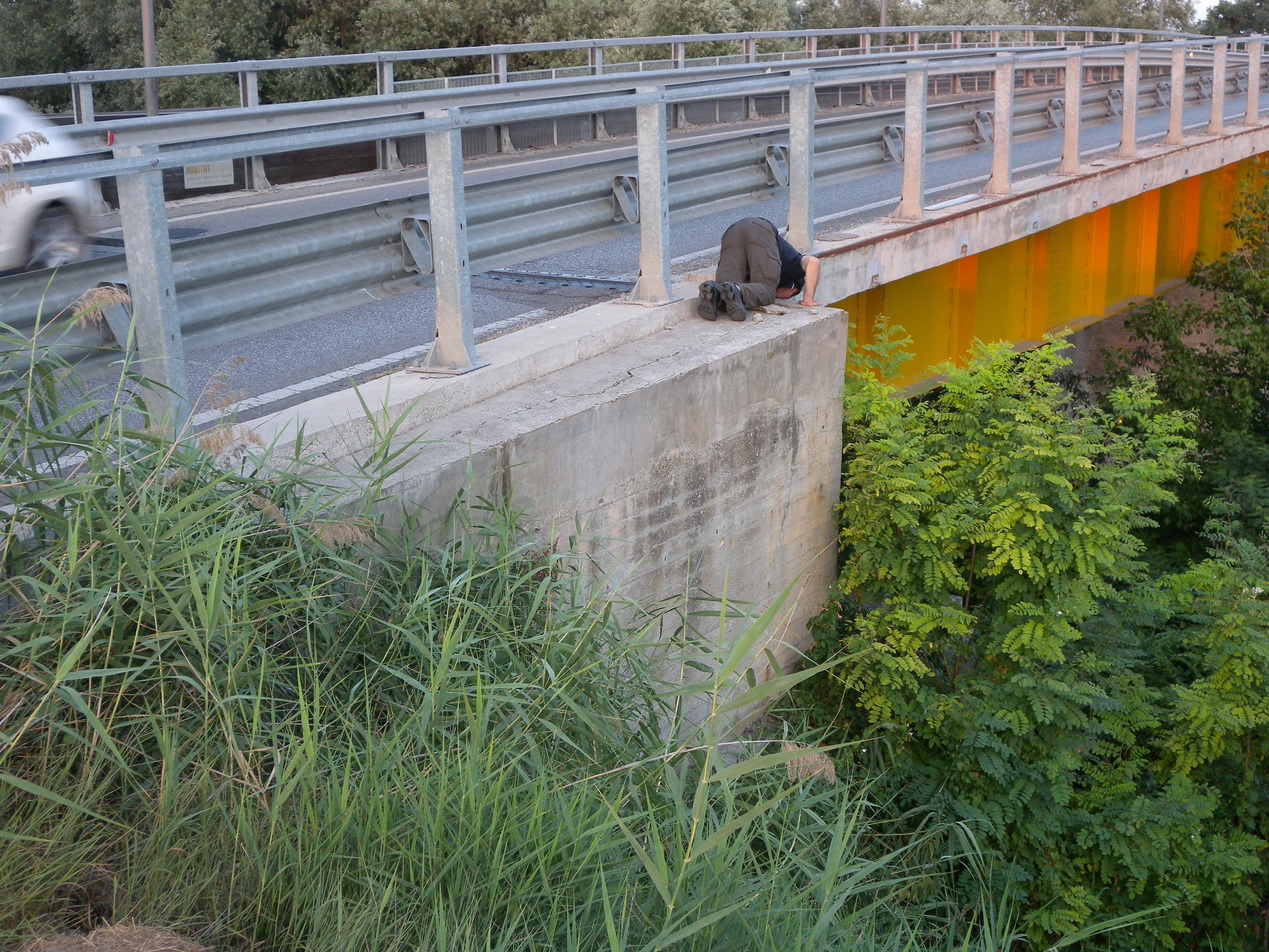Crack: (329, 294, 816, 497)
